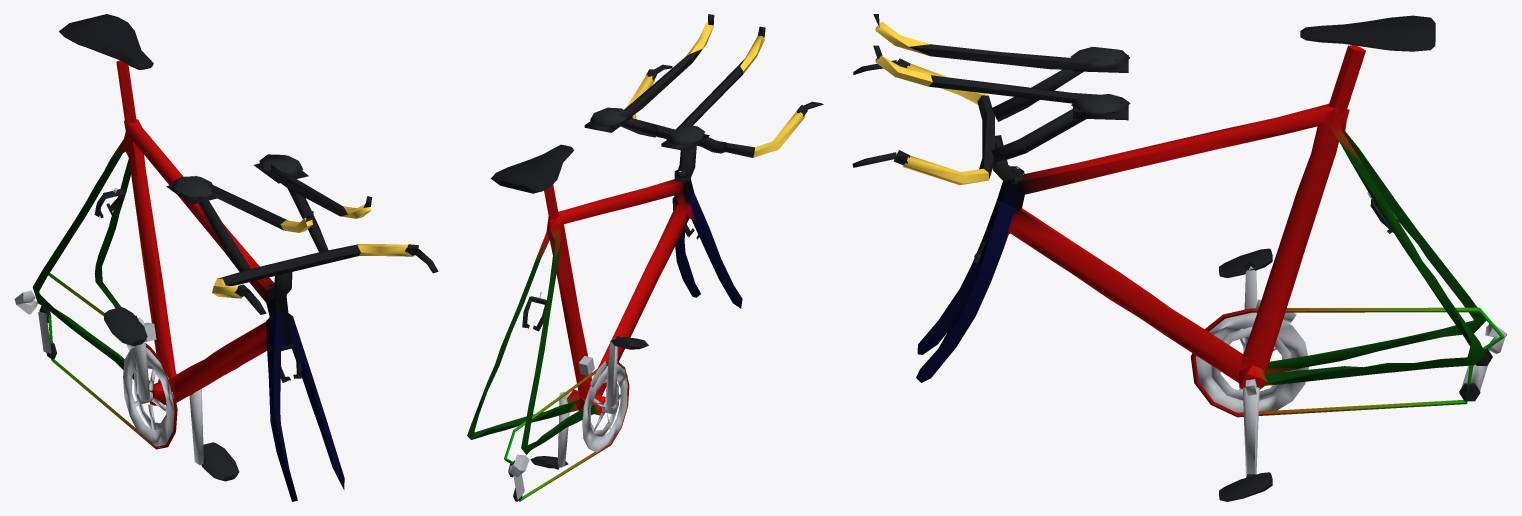
The model's file is lowpro_lod1.glb.
3 views of the same model, side by side, from view 1: azimuth 30°, elevation 25°; view 2: azimuth 150°, elevation 25°; view 3: azimuth 270°, elevation 25° (orthographic). The views are drawn at different scales.
Parts seen in each view (by area): view 1: frame, cockpit, crankset, saddle, pedal_R, opt_derailleur, pedal_L, opt_brakes_rim; view 2: frame, cockpit, crankset, saddle, opt_derailleur, opt_brakes_rim; view 3: frame, cockpit, crankset, saddle, opt_derailleur, pedal_L, pedal_R.
Part boxes in pixels (<box>): frame: <box>32,60,344,501</box>; cockpit: <box>166,154,438,314</box>; crankset: <box>123,317,203,464</box>; saddle: <box>59,14,153,69</box>; pedal_R: <box>104,307,147,345</box>; opt_derailleur: <box>14,290,156,359</box>; pedal_L: <box>201,442,239,481</box>; opt_brakes_rim: <box>94,188,301,382</box>; frame: <box>467,178,742,501</box>; cockpit: <box>584,14,823,183</box>; crankset: <box>557,338,627,467</box>; saddle: <box>491,144,573,193</box>; opt_derailleur: <box>508,355,606,501</box>; opt_brakes_rim: <box>522,217,699,331</box>; frame: <box>916,45,1504,417</box>; cockpit: <box>852,14,1130,185</box>; crankset: <box>1195,269,1308,476</box>; saddle: <box>1300,15,1435,51</box>; opt_derailleur: <box>1256,299,1507,401</box>; pedal_L: <box>1219,472,1272,501</box>; pedal_R: <box>1219,248,1272,278</box>.
Size of the model in its own units: 0.4174 by 0.885 by 1.18.
